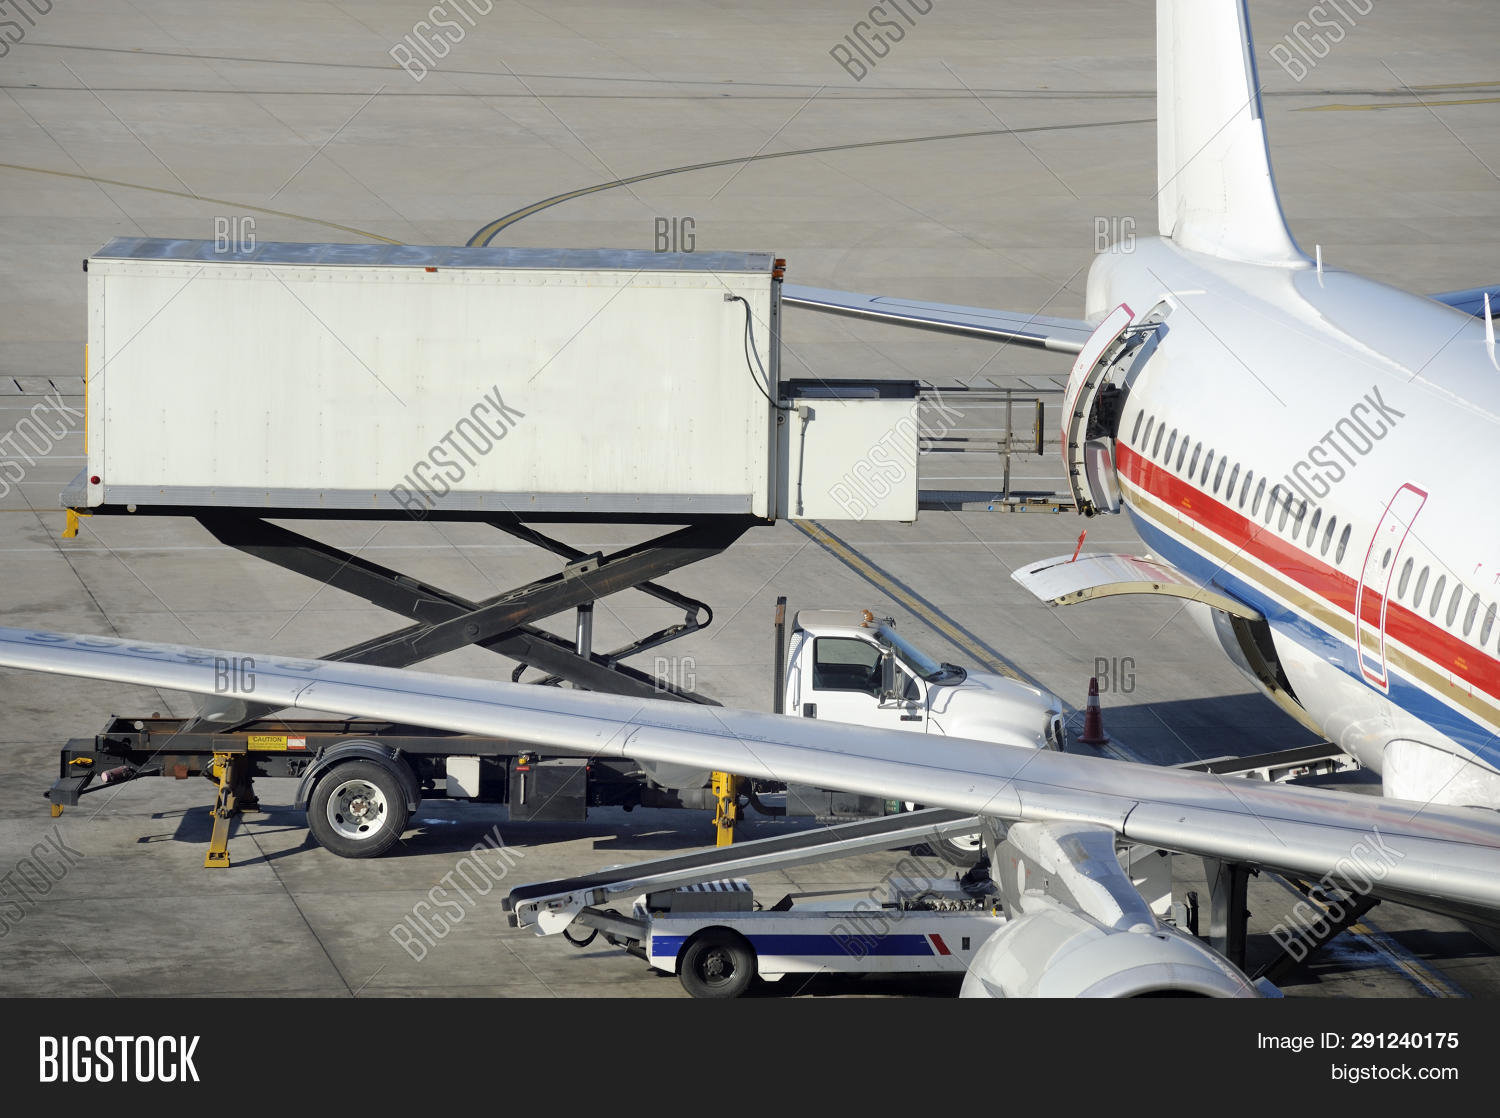Catering truck: (62, 208, 1075, 849)
